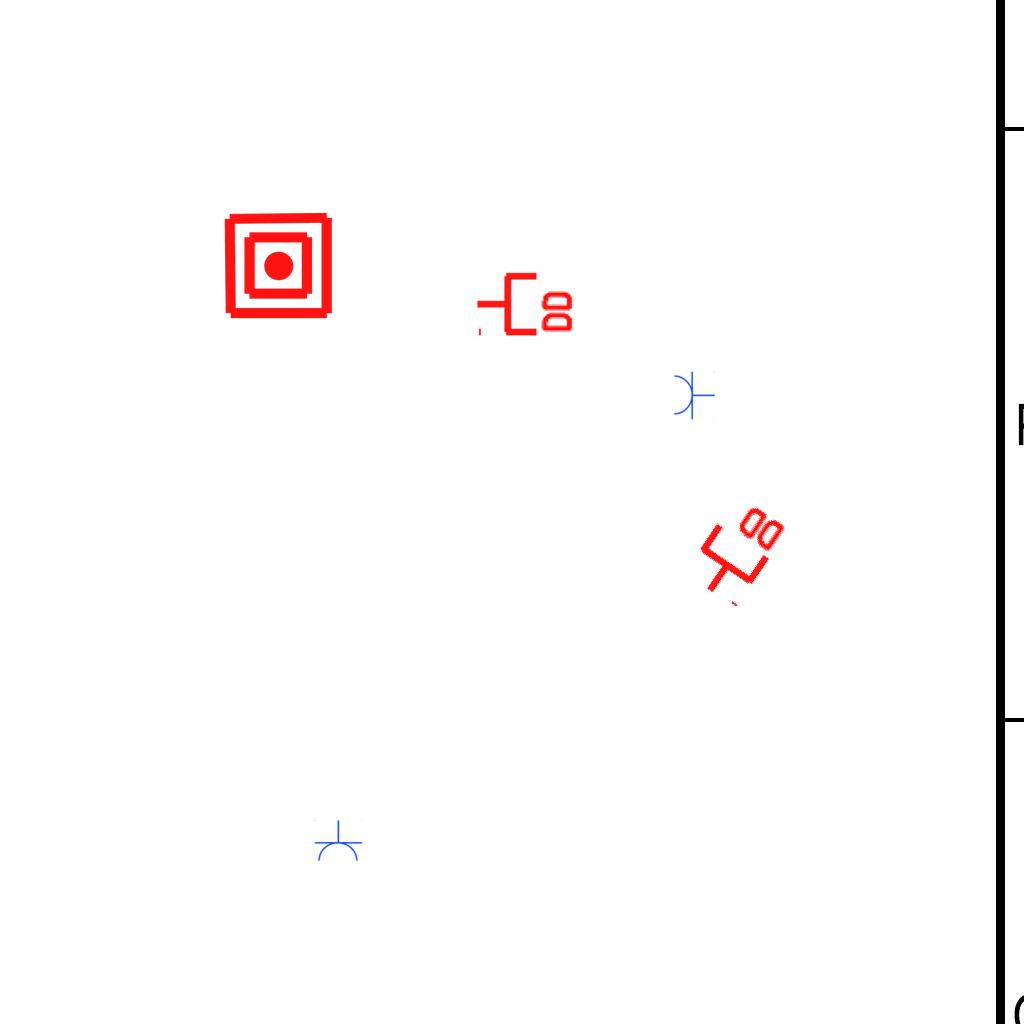Datenanschluss_zweifach: (678, 487, 793, 612), (474, 268, 577, 337)
NAM-Nichtautomatischer_Melder: (222, 209, 335, 322)
Schukosteckdose_einfach: (313, 820, 363, 863), (672, 370, 715, 420)
